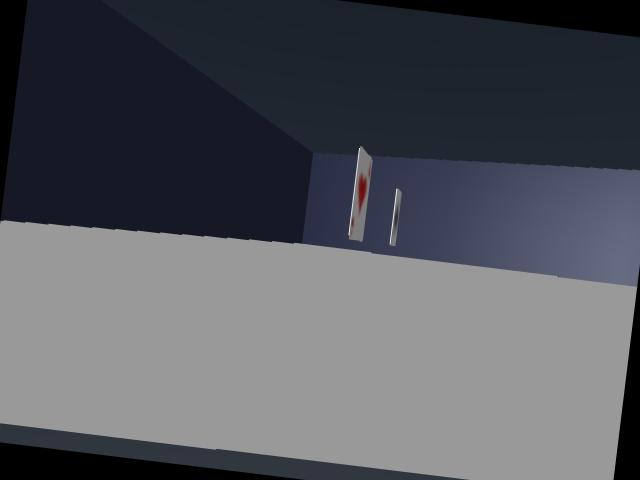club: (390, 189, 401, 245)
heart: (348, 147, 372, 241)
